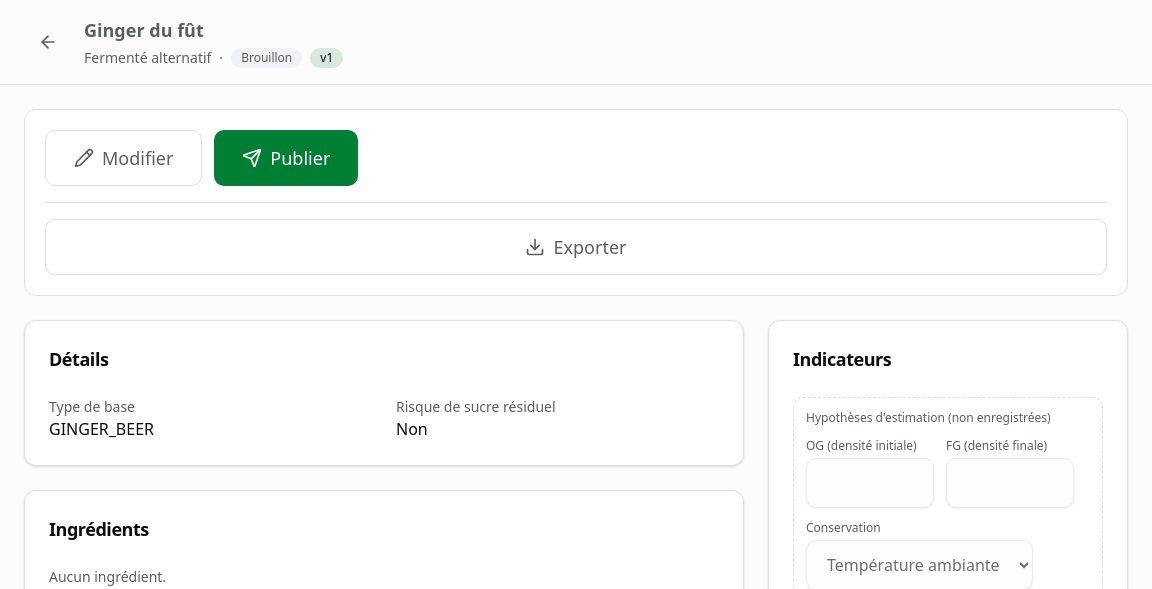
Test case: page détail — publication › un brouillon ALT sans pH ni stabilisation : 422 → restitue les manquements
Step 1. Click the button "Publier" → (286, 158), box [214,130,358,186]
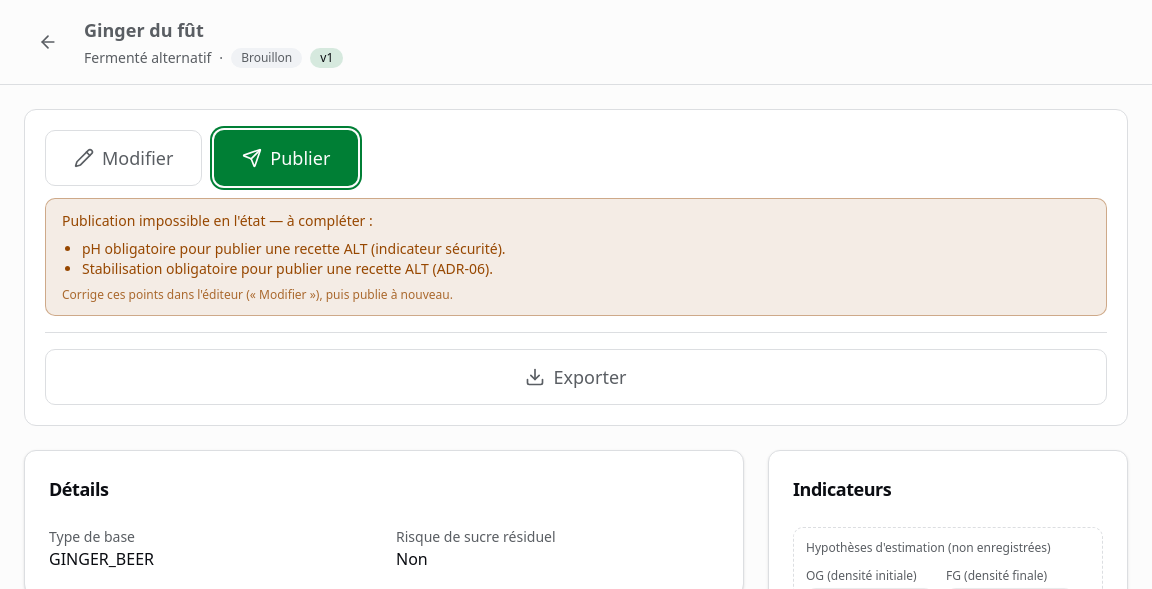
Result: the list item "pH obligatoire pour publier une recette ALT (indicateur sécurité)." is shown at [82,239,506,258]
Result: the list item "Stabilisation obligatoire pour publier une recette ALT (ADR-06)." is shown at [82,259,493,278]
